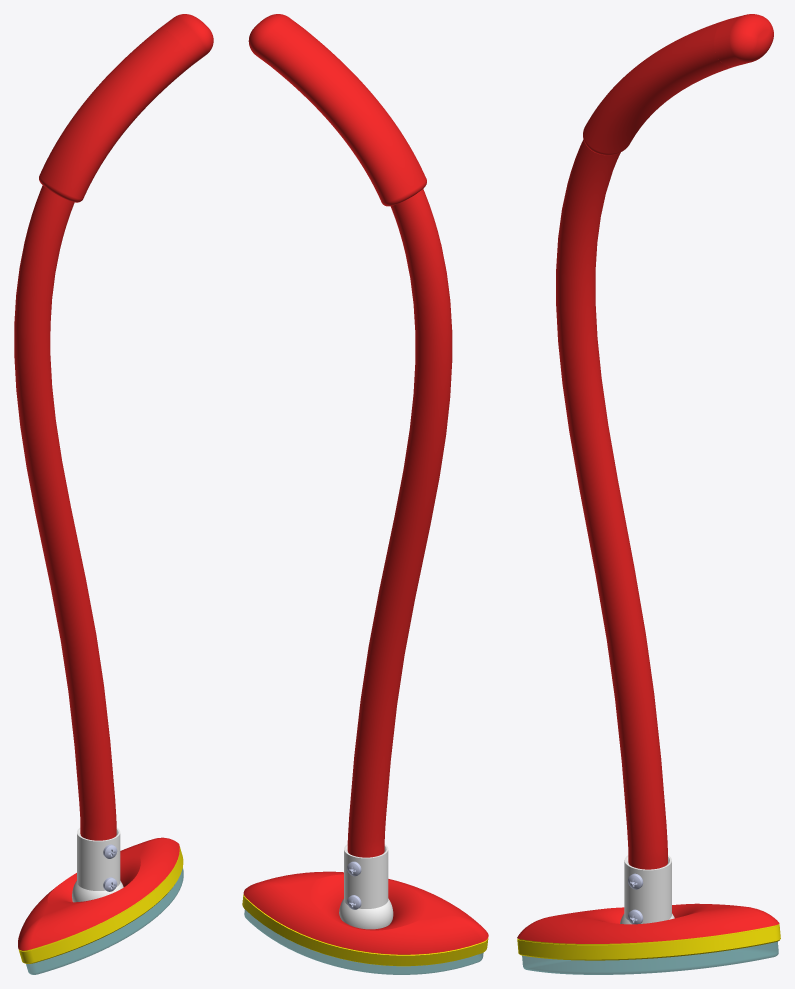
File: mop.obj
3 renders of one model, left to right at view 1: azimuth 30°, elevation 25°; view 2: azimuth 150°, elevation 25°; view 3: azimuth 330°, elevation 25°, orthographic. The views are drawn at different scales.
Parts seen in each view (by area): view 1: |felmoso|Root|nyél-1|color, |felmoso|Root|fej_''-1|color-3, |felmoso|Root|fej_2-1|color-4, |felmoso|Root|coupling-1|color-2, |felmoso|Root|fej_szivacs-1|color-5; view 2: |felmoso|Root|nyél-1|color, |felmoso|Root|fej_''-1|color-3, |felmoso|Root|coupling-1|color-2, |felmoso|Root|fej_2-1|color-4, |felmoso|Root|fej_szivacs-1|color-5; view 3: |felmoso|Root|nyél-1|color, |felmoso|Root|fej_''-1|color-3, |felmoso|Root|fej_2-1|color-4, |felmoso|Root|fej_szivacs-1|color-5, |felmoso|Root|coupling-1|color-2.
Boxes of the visible parts, x1=… form: |felmoso|Root|nyél-1|color: x1=14, y1=14, x2=213, y2=840; |felmoso|Root|fej_''-1|color-3: x1=18, y1=837, x2=179, y2=950; |felmoso|Root|fej_2-1|color-4: x1=18, y1=846, x2=183, y2=963; |felmoso|Root|coupling-1|color-2: x1=72, y1=827, x2=123, y2=902; |felmoso|Root|fej_szivacs-1|color-5: x1=26, y1=868, x2=183, y2=974; |felmoso|Root|nyél-1|color: x1=248, y1=14, x2=452, y2=857; |felmoso|Root|fej_''-1|color-3: x1=243, y1=871, x2=488, y2=954; |felmoso|Root|coupling-1|color-2: x1=339, y1=844, x2=393, y2=929; |felmoso|Root|fej_2-1|color-4: x1=242, y1=894, x2=488, y2=966; |felmoso|Root|fej_szivacs-1|color-5: x1=244, y1=910, x2=483, y2=974; |felmoso|Root|nyél-1|color: x1=556, y1=14, x2=773, y2=869; |felmoso|Root|fej_''-1|color-3: x1=517, y1=903, x2=779, y2=943; |felmoso|Root|fej_2-1|color-4: x1=517, y1=924, x2=780, y2=960; |felmoso|Root|fej_szivacs-1|color-5: x1=522, y1=941, x2=778, y2=974; |felmoso|Root|coupling-1|color-2: x1=620, y1=855, x2=674, y2=958.
Bounding box in the file's own units: 0.1976 × 0.8206 × 0.1077.
